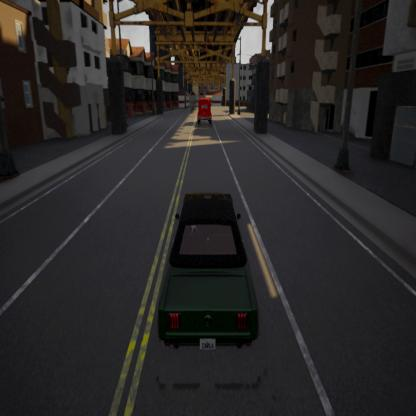Cars: (157, 182, 261, 356), (194, 94, 216, 126)
